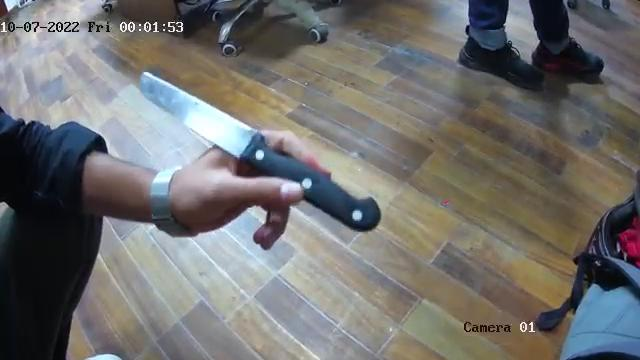knives: (137, 68, 383, 233)
